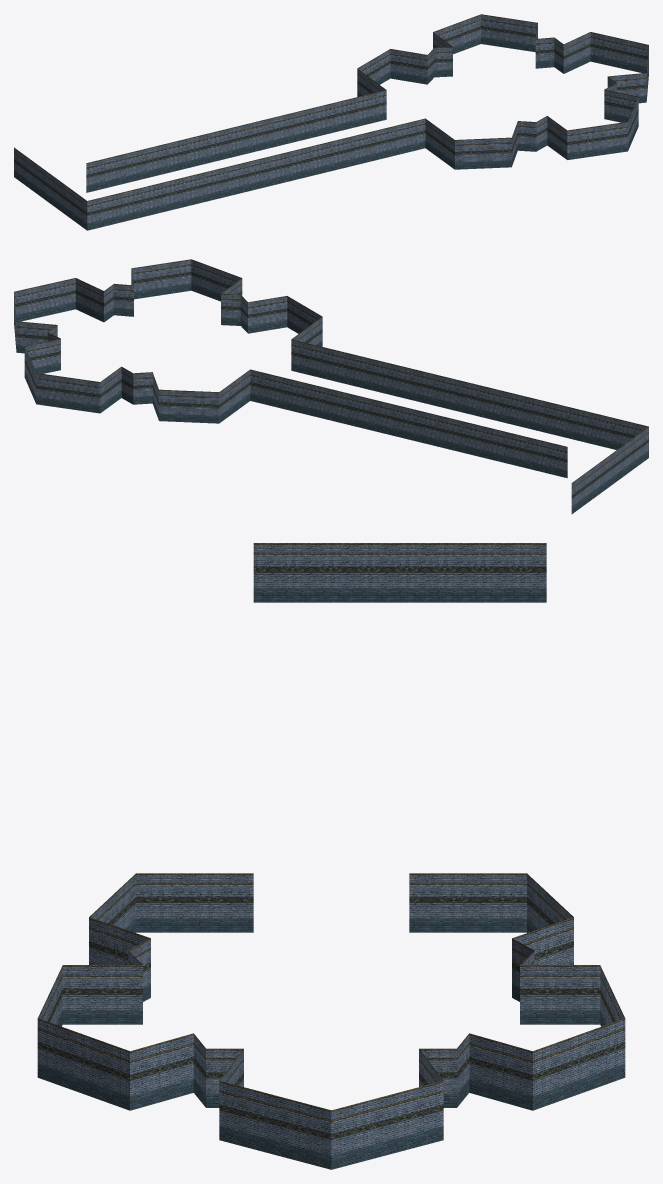
Rendered from Kunlun_wall04.FBX.
3 renders of one model, top to bottom at view 1: azimuth 30°, elevation 25°; view 2: azimuth 150°, elevation 25°; view 3: azimuth 270°, elevation 25°, orthographic. The views are drawn at different scales.
Visible parts, largest first — view 1: Kunlun_wall04; view 2: Kunlun_wall04; view 3: Kunlun_wall04.
Boxes of the visible parts, x1,y1,x2,y2 form: Kunlun_wall04: (14,14,648,230); Kunlun_wall04: (14,259,648,514); Kunlun_wall04: (37,543,625,1169).
Bounding box in the file's own units: 9685 × 474 × 4238.
Materials: 1 (1 with a texture image).
